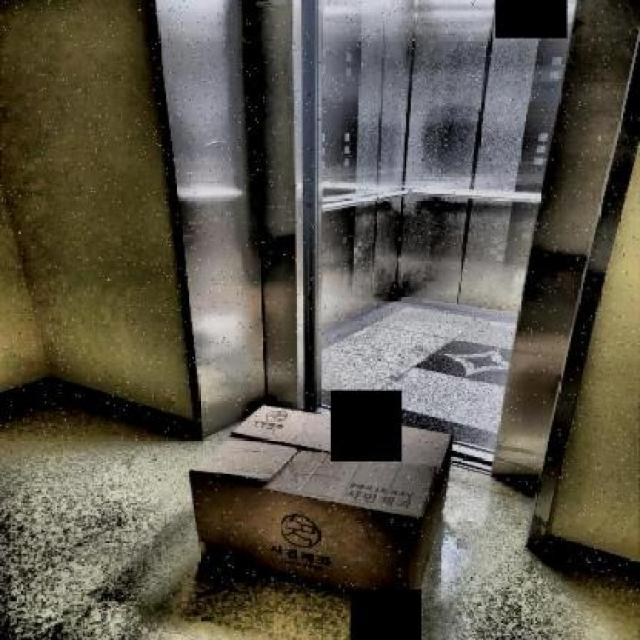box: (178, 383, 476, 623)
